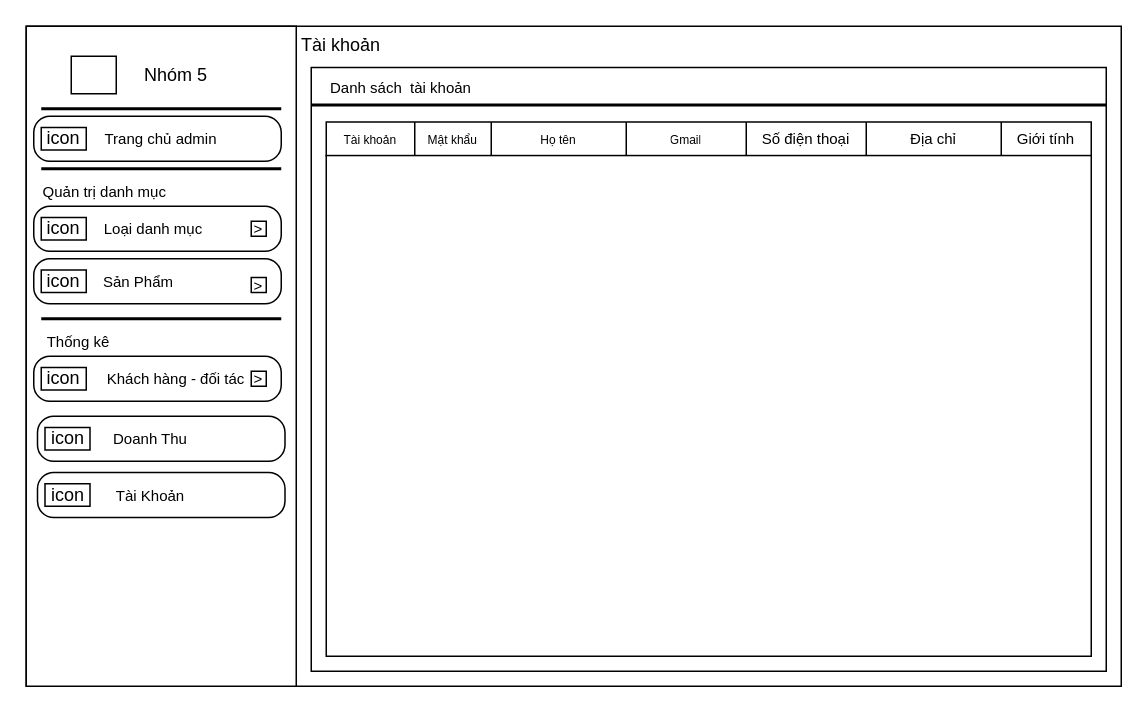
This 1148x713 diagram has some shape labels left out. Here are the shapes that lost their labels. From the top down, the box of each, then its label:
(70, 55, 116, 94): img
(325, 154, 1091, 656): ListView
